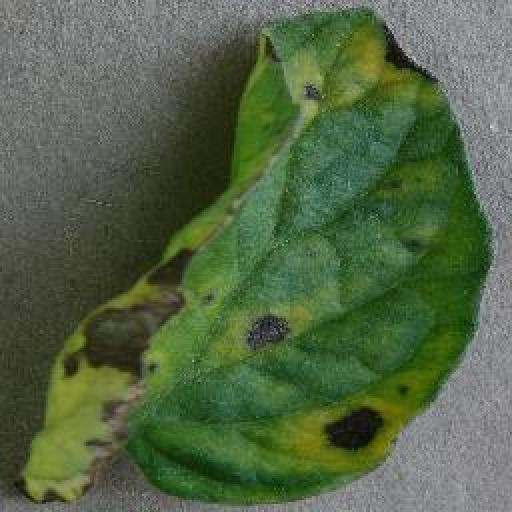Early Blight: (24, 2, 496, 512)
